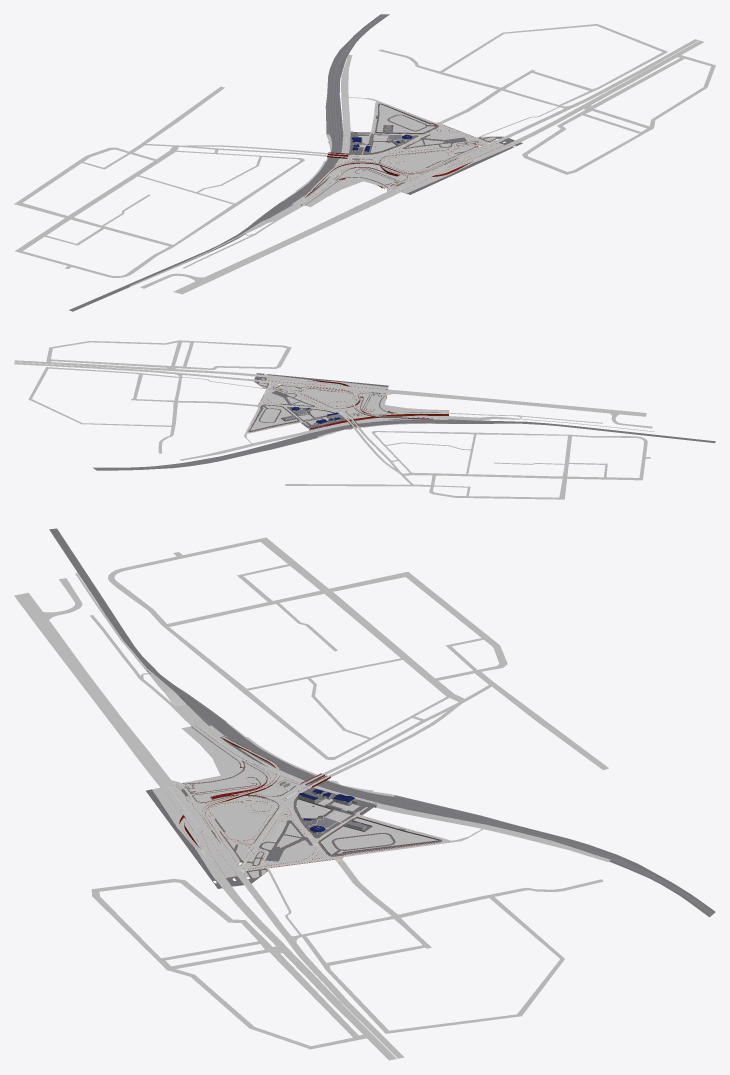
File: MODEL_Environment.fbx
3 renders of one model, top to bottom at view 1: azimuth 30°, elevation 25°; view 2: azimuth 150°, elevation 25°; view 3: azimuth 270°, elevation 25°, orthographic. The views are drawn at different scales.
Parts seen in each view (by area): view 1: SM_PRKPBD_Asphalt, SM_PRKPBD_Asphalt_Far, SM_NS_Grass, SM_NS_PRKPBD_RailsWayGranit, SM_PRKPBD_Pavement, SM_NS_PRKPBD_RailsLine, SM_PRKPBD_Bridges; view 2: SM_PRKPBD_Asphalt, SM_PRKPBD_Asphalt_Far, SM_NS_Grass, SM_NS_PRKPBD_RailsWayGranit, SM_NS_PRKPBD_RailsLine, SM_PRKPBD_Pavement, SM_Bildings_Sush, SM_PRKPBD_RoadWall_02, SM_PRKPBD_RailsWayGrass, SM_PRKPBD_Bridges; view 3: SM_PRKPBD_Asphalt, SM_PRKPBD_Asphalt_Far, SM_NS_Grass, SM_NS_PRKPBD_RailsWayGranit, SM_NS_PRKPBD_RailsLine, SM_PRKPBD_Pavement, SM_Bildings_Sush.
Part boxes in pixels (x1=…): SM_PRKPBD_Asphalt: x1=129, y1=39, x2=703, y2=294; SM_PRKPBD_Asphalt_Far: x1=14, y1=24, x2=715, y2=288; SM_NS_Grass: x1=301, y1=103, x2=504, y2=206; SM_NS_PRKPBD_RailsWayGranit: x1=69, y1=14, x2=389, y2=311; SM_PRKPBD_Pavement: x1=305, y1=103, x2=522, y2=205; SM_NS_PRKPBD_RailsLine: x1=70, y1=14, x2=388, y2=311; SM_PRKPBD_Bridges: x1=304, y1=152, x2=458, y2=197; SM_PRKPBD_Asphalt: x1=14, y1=360, x2=654, y2=485; SM_PRKPBD_Asphalt_Far: x1=28, y1=340, x2=652, y2=499; SM_NS_Grass: x1=248, y1=377, x2=449, y2=432; SM_NS_PRKPBD_RailsWayGranit: x1=93, y1=419, x2=715, y2=470; SM_NS_PRKPBD_RailsLine: x1=93, y1=420, x2=714, y2=470; SM_PRKPBD_Pavement: x1=249, y1=373, x2=431, y2=431; SM_Bildings_Sush: x1=283, y1=406, x2=340, y2=428; SM_PRKPBD_RoadWall_02: x1=309, y1=414, x2=448, y2=430; SM_PRKPBD_RailsWayGrass: x1=317, y1=419, x2=448, y2=437; SM_PRKPBD_Bridges: x1=307, y1=385, x2=432, y2=426; SM_PRKPBD_Asphalt: x1=14, y1=573, x2=610, y2=1060; SM_PRKPBD_Asphalt_Far: x1=43, y1=537, x2=608, y2=1049; SM_NS_Grass: x1=152, y1=725, x2=442, y2=878; SM_NS_PRKPBD_RailsWayGranit: x1=49, y1=528, x2=715, y2=917; SM_NS_PRKPBD_RailsLine: x1=51, y1=528, x2=714, y2=916; SM_PRKPBD_Pavement: x1=146, y1=726, x2=441, y2=888; SM_Bildings_Sush: x1=298, y1=789, x2=376, y2=833.
Bounding box in the file's own units: 3053 × 24.86 × 1692.
